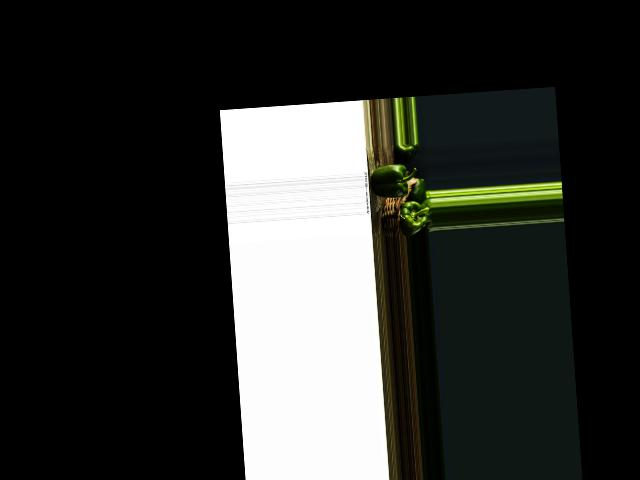bell_pepper: (397, 142, 419, 157)
